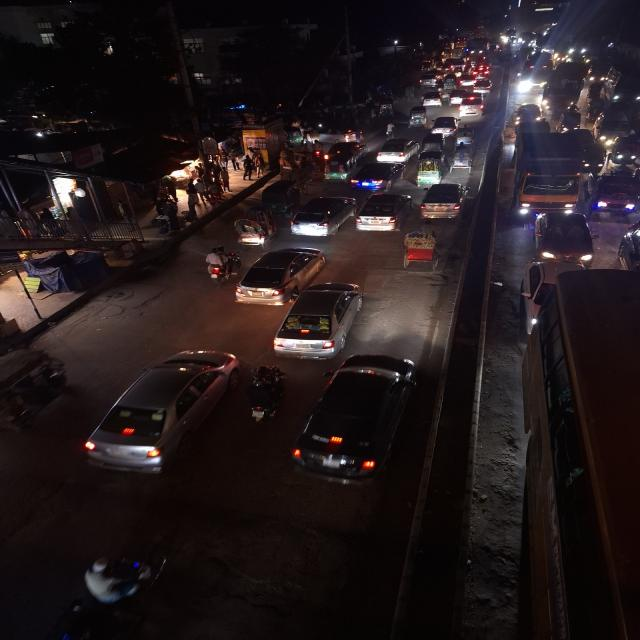bus: (526, 260, 638, 638)
car: (77, 346, 243, 477), (291, 352, 425, 492), (271, 280, 367, 360), (233, 244, 329, 306), (530, 209, 597, 265), (289, 194, 356, 240), (353, 191, 413, 235), (418, 181, 469, 221), (349, 162, 403, 190), (594, 112, 630, 146), (374, 136, 419, 163), (512, 101, 545, 127), (429, 115, 460, 135), (458, 96, 486, 118), (420, 89, 443, 107), (418, 71, 442, 88), (471, 78, 493, 94), (447, 89, 465, 107)
cng: (258, 180, 300, 213), (320, 151, 354, 181), (414, 151, 442, 186), (612, 134, 640, 168), (455, 126, 476, 149), (408, 105, 428, 127)
motorcycle: (37, 537, 173, 640), (242, 364, 289, 426), (200, 245, 238, 284), (452, 145, 475, 171)
pedestrian: (241, 158, 258, 181)
rickshaw: (0, 346, 70, 446), (398, 229, 446, 273), (231, 210, 278, 250), (415, 151, 442, 187), (452, 144, 474, 170)
truck: (508, 125, 590, 218), (594, 170, 640, 220)
